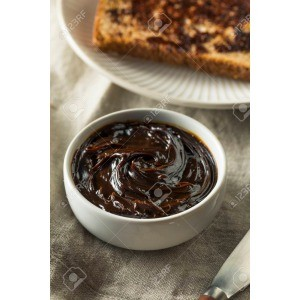yeast spread_brain food: (68, 113, 216, 213)
